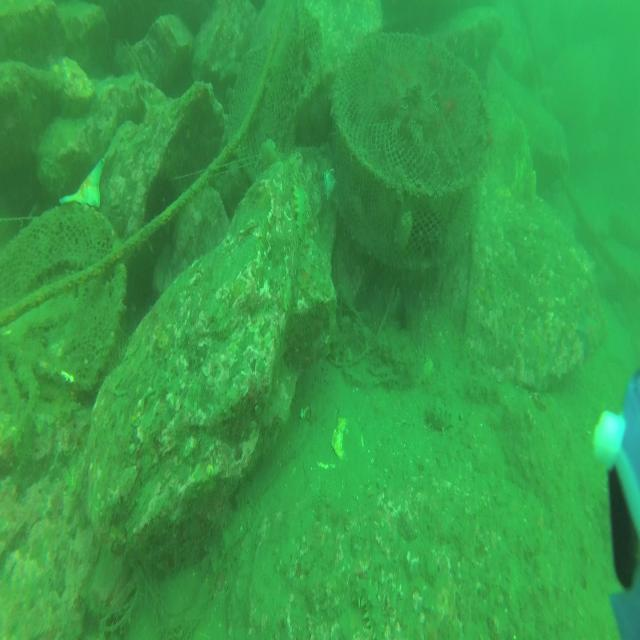echinus: (142, 171, 178, 226)
holothurian: (352, 575, 388, 640), (292, 180, 312, 242), (423, 399, 455, 437)
starfish: (57, 155, 104, 210), (576, 310, 600, 355)
